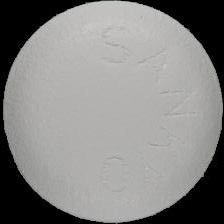55154-6130: (0, 0, 224, 224)
